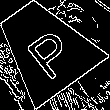P_NW: (14, 16, 76, 79)
